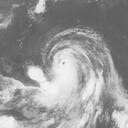cyclone: (25, 27, 114, 104)
